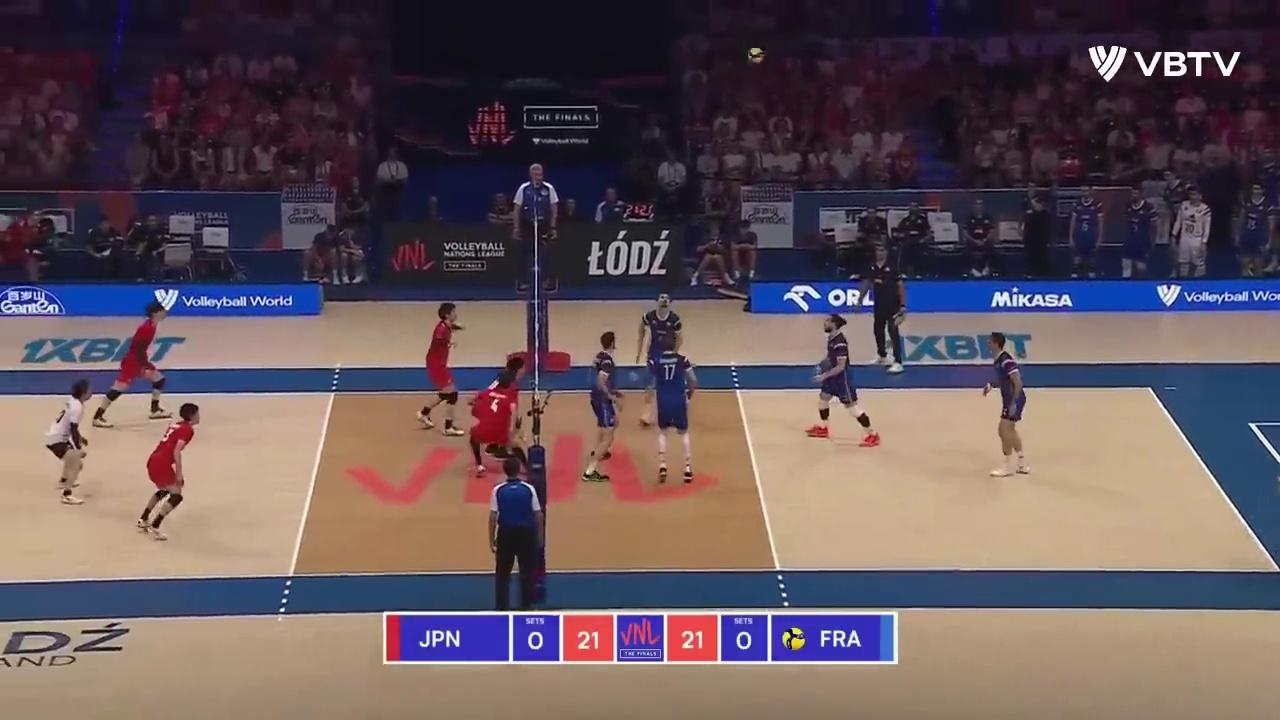ball: (748, 47, 763, 64)
